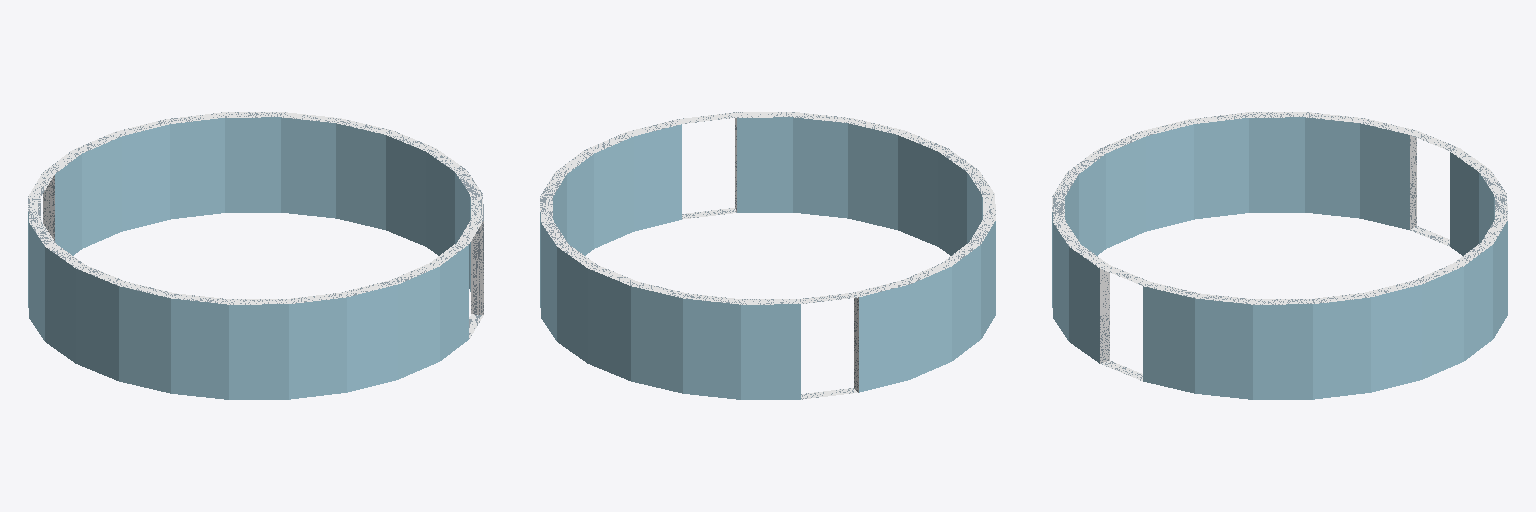
Rendered from circular_wall_glass.obj.
The picture shows the model from 3 angles: view 1: azimuth 30°, elevation 25°; view 2: azimuth 150°, elevation 25°; view 3: azimuth 270°, elevation 25°; orthographic projection.
Parts seen in each view (by area): view 1: Mesh1 Model; view 2: Mesh1 Model; view 3: Mesh1 Model.
Boxes of the visible parts, <box> form: Mesh1 Model: <box>28,112,483,399</box>; Mesh1 Model: <box>540,112,995,399</box>; Mesh1 Model: <box>1052,112,1507,399</box>.
Bounding box in the file's own units: 220 × 50.76 × 220.